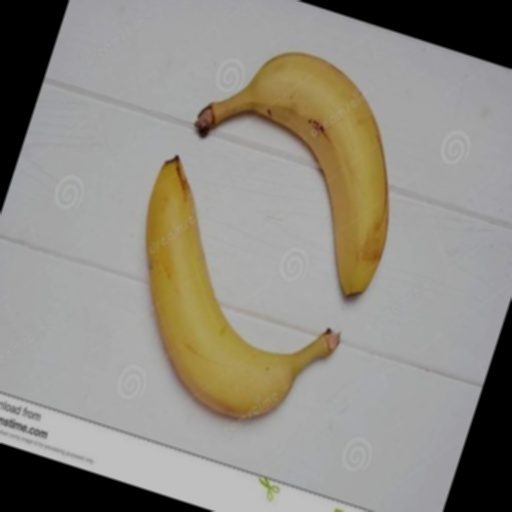fruit: (17, 55, 274, 413), (97, 33, 306, 230)
